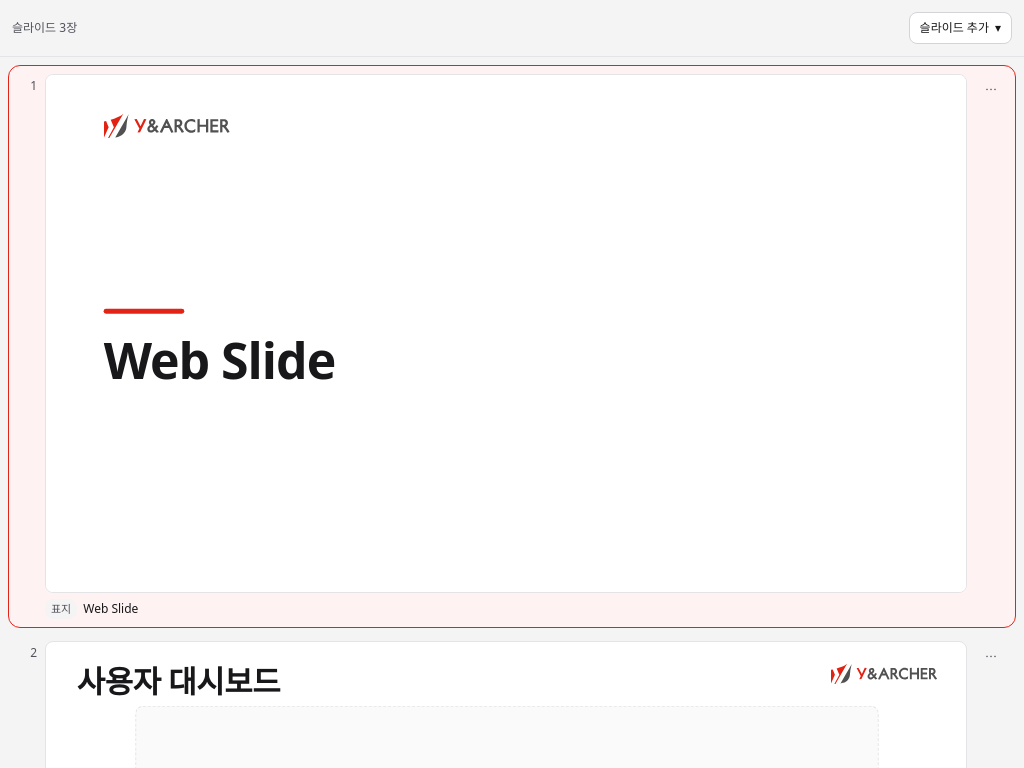
Scenario: 순서 변경 › 첫 슬라이드는 위로, 마지막 슬라이드는 아래로 옮길 수 없다
What coordinates should you click on to do the following:
click the button named "1페이지 슬라이드 메뉴"
I would click on:
 (991, 90)
Its box is [975, 74, 1007, 106].
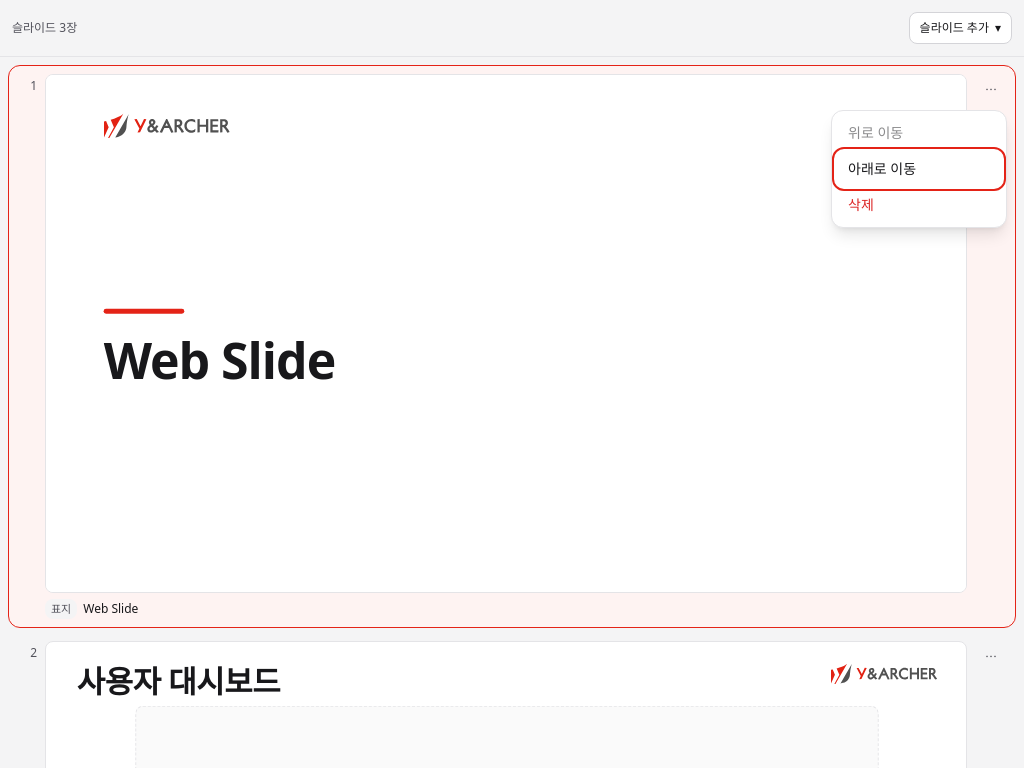
Check: the menu item "위로 이동" is disabled, box [836, 115, 1002, 151]
Check: the menu item "아래로 이동" is enabled, box [836, 151, 1002, 187]
